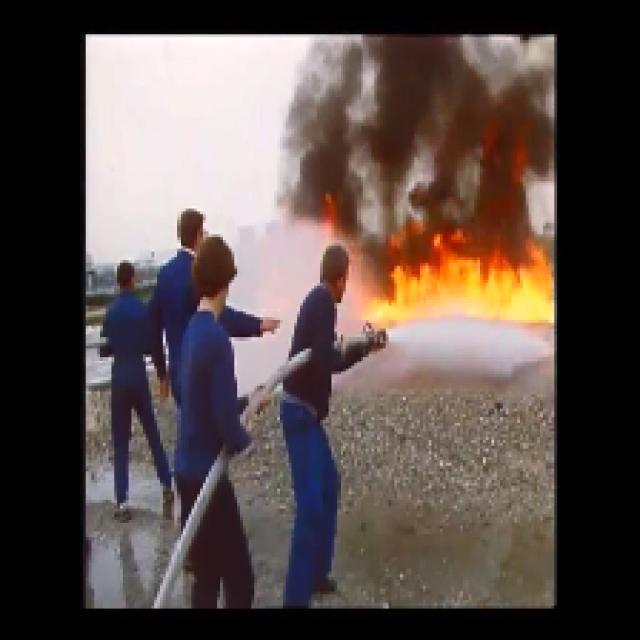fire: (397, 261, 560, 328)
smoke: (377, 69, 534, 224)
